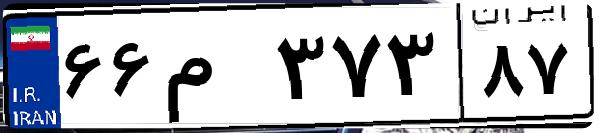3: (270, 28, 330, 110), (385, 28, 445, 110)
6: (57, 26, 110, 100), (110, 28, 158, 98)
7: (330, 28, 385, 110), (525, 38, 570, 115)
8: (475, 38, 525, 113)
م: (158, 20, 270, 120)
